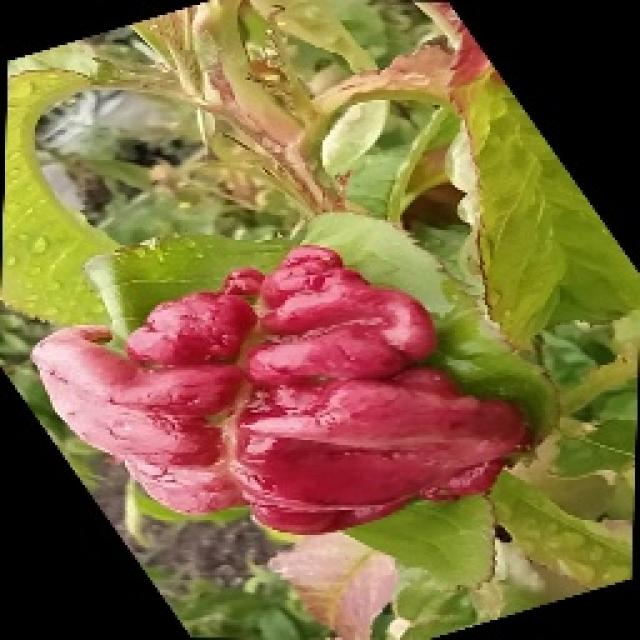peach_leaf_curl: (28, 240, 532, 535)
